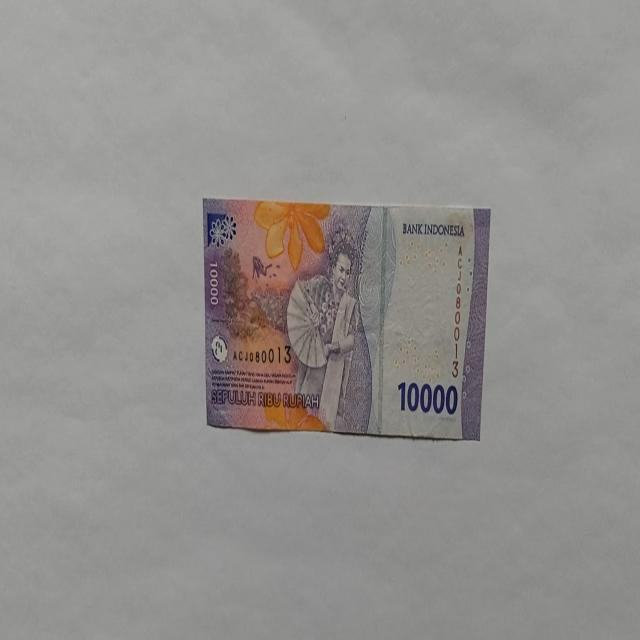sepuluh ribu rupiah: (202, 197, 490, 440)
